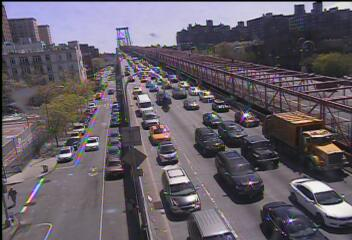neg: (79, 164, 93, 182), (35, 162, 48, 180), (46, 134, 58, 149), (19, 116, 30, 130)
pos: (2, 186, 19, 208), (32, 143, 44, 159)
